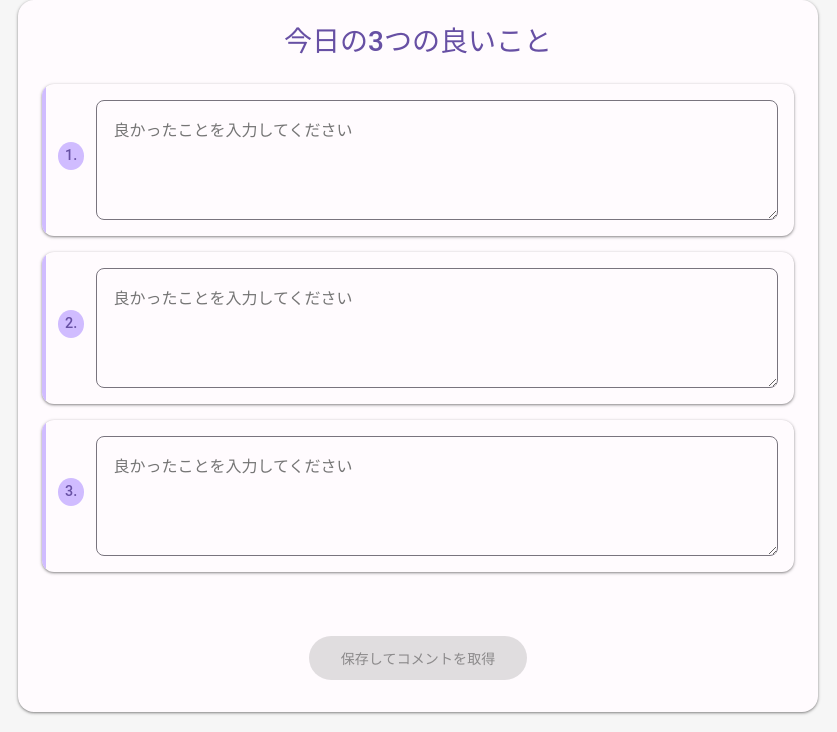
EntryForm コンポーネント › 少なくとも1つの項目に入力すると保存ボタンが有効になる
The width and height of the screenshot is (837, 732).
Type "テスト入力" into the text box labelled "1." at point(437, 160), box [96,100,778,220]
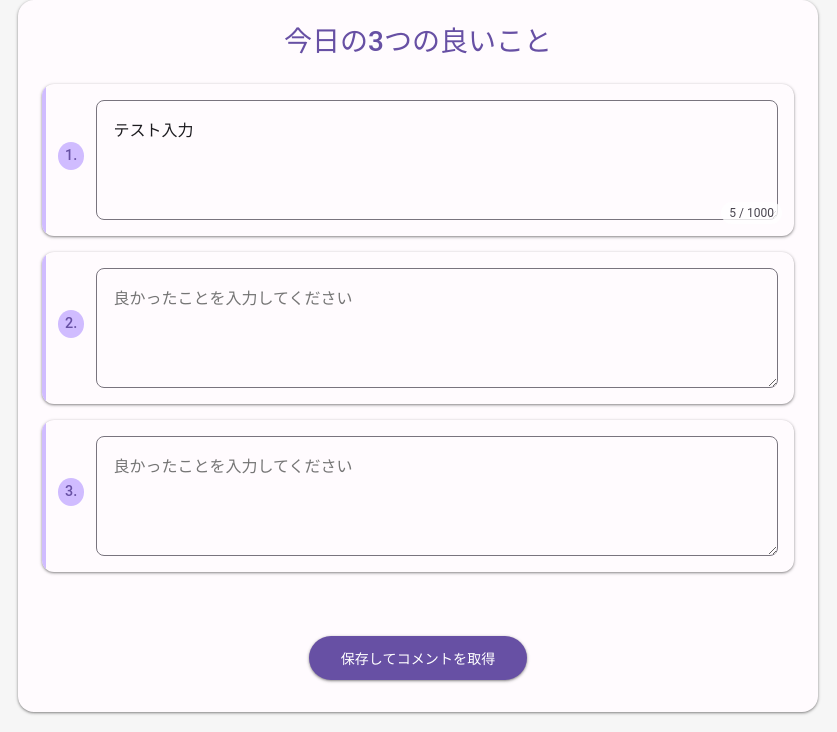
Now the button "保存してコメントを取得" is enabled, box [309,636,527,680]
